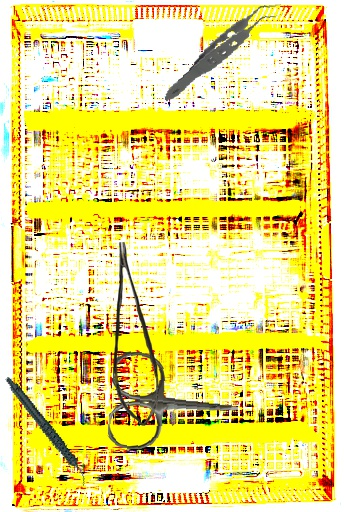Handpiece: (5, 364, 89, 498)
Iris Scissors: (106, 350, 243, 458)
Micro Scissor: (112, 242, 161, 426)
Tissue Forceps: (152, 2, 297, 102)
